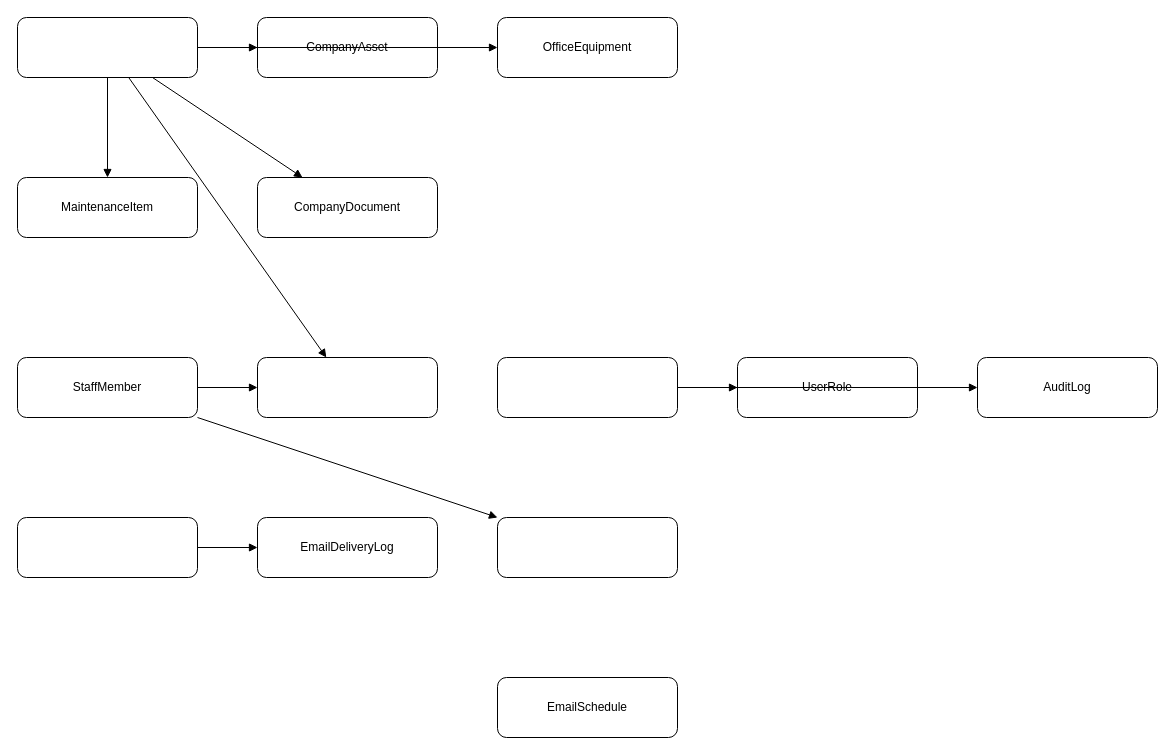
The diagram is 1175 pixels wide and 755 high, and some of its shapes have lost their labels. The shapes that lost their labels are listed below. From the top down, each one's centre as x and y in pixels, then its label:
point 107,47: Asset
point 347,387: AssetAssignmentHistory
point 587,387: User
point 107,547: EmailRecipient
point 587,547: EquipmentTransfer
